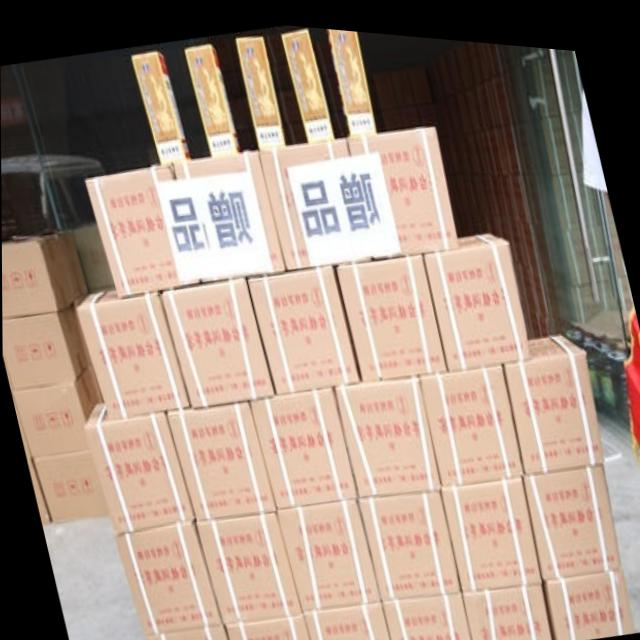box: (423, 221, 530, 363), (502, 321, 605, 467), (245, 260, 360, 390), (161, 273, 275, 404), (77, 288, 190, 418), (334, 246, 447, 373), (347, 118, 458, 246), (81, 400, 193, 525), (171, 148, 287, 268), (333, 367, 440, 493), (166, 397, 278, 516), (418, 356, 525, 480), (252, 383, 358, 508), (85, 162, 182, 295), (111, 522, 224, 635), (193, 509, 303, 624), (259, 132, 350, 268), (355, 482, 462, 595), (522, 452, 620, 572), (440, 469, 541, 585), (275, 496, 380, 607), (2, 292, 93, 390), (9, 363, 94, 459), (1, 229, 87, 316), (543, 558, 634, 632), (463, 575, 553, 640), (34, 452, 108, 519), (379, 587, 472, 640), (303, 593, 391, 640), (225, 609, 310, 640), (144, 626, 229, 640)
